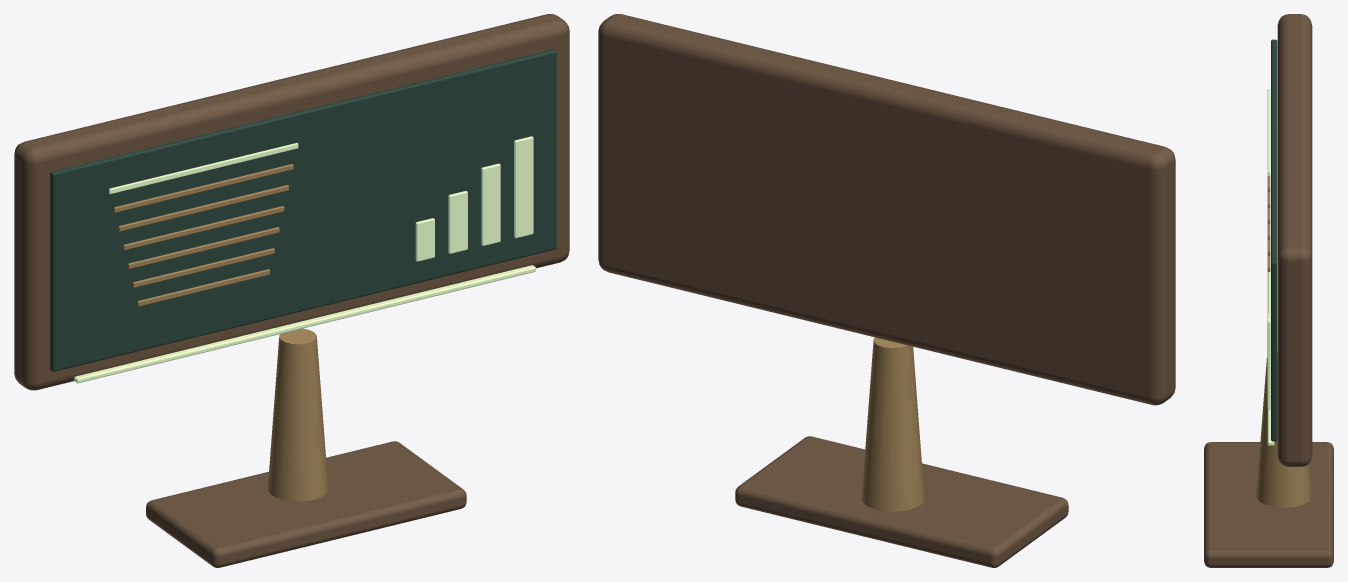
Rendered from computerscreen.glb.
3 renders of one model, left to right at view 1: azimuth 30°, elevation 25°; view 2: azimuth 150°, elevation 25°; view 3: azimuth 270°, elevation 25°, orthographic. The views are drawn at different scales.
Parts seen in each view (by area): view 1: atelier-cyber-computerscreen; view 2: atelier-cyber-computerscreen; view 3: atelier-cyber-computerscreen.
Boxes of the visible parts, x1,y1,x2,y2 form: atelier-cyber-computerscreen: (14,14,569,567); atelier-cyber-computerscreen: (598,14,1175,567); atelier-cyber-computerscreen: (1204,14,1333,567).
Bounding box in the file's own units: 1.35 × 1 × 0.3069.
